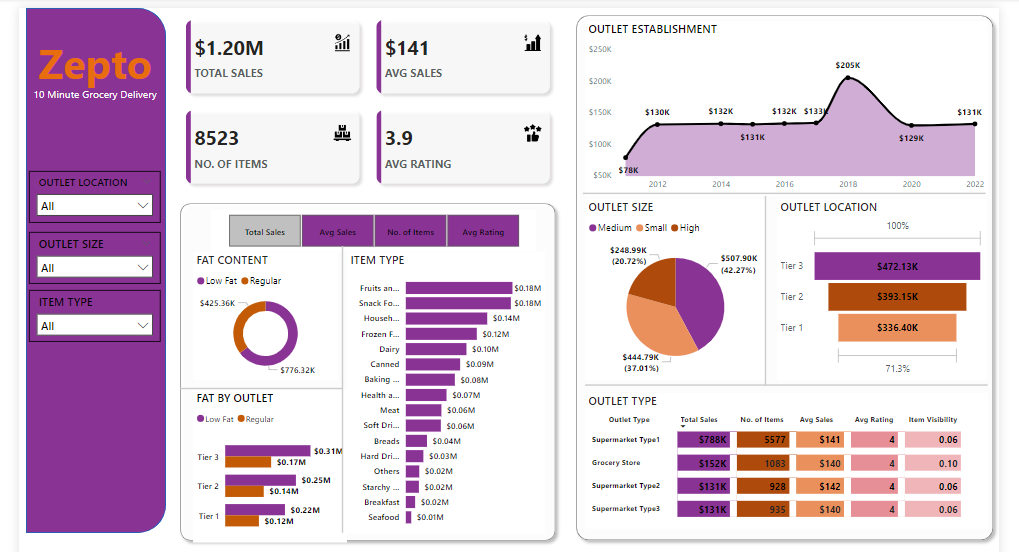

The dashboard page shown, as its layout file describes it:
{"tool":"powerbi","page":{"name":"Page 1","canvas":[1400,800],"ordinal":0},"visuals":[{"type":"shape","box":[10,0,200,750],"z":0},{"type":"textbox","box":[9.2,33.1,200.3,91.9],"z":1000},{"type":"textbox","box":[9.2,106.6,200.3,34.9],"z":2000},{"type":"cardVisual","fields":{"Data":["BlinkIT Grocery Data.Total Sales","BlinkIT Grocery Data.Avg Sales","BlinkIT Grocery Data.No. of Items","BlinkIT Grocery Data.Avg Rating"]},"box":[221.7,0,554.2,269.9],"z":3000},{"type":"shape","box":[221.7,269.9,554,500],"z":4000},{"type":"slicer","fields":{"Values":["Matrices.Matrices"]},"box":[274.7,289.2,464.3,59.4],"z":5000},{"type":"donutChart","title":"FAT CONTENT","fields":{"Y":["BlinkIT Grocery Data.Total Sales"],"Category":["BlinkIT Grocery Data.Item Fat Content"]},"box":[249,348.6,207.2,183.1],"z":6000},{"type":"clusteredBarChart","title":"FAT BY OUTLET","fields":{"Y":["BlinkIT Grocery Data.Total Sales"],"Category":["BlinkIT Grocery Data.Outlet Location Type"],"Series":["BlinkIT Grocery Data.Item Fat Content"]},"box":[249,546.2,220.1,218.5],"z":8000},{"type":"barChart","title":"ITEM TYPE","fields":{"Y":["BlinkIT Grocery Data.Total Sales"],"Category":["BlinkIT Grocery Data.Item Type"]},"box":[469.1,348.6,282.7,401.6],"z":9000},{"type":"shape","box":[787.1,1.6,613.7,767.9],"z":10000},{"type":"lineChart","title":"OUTLET ESTABLISHMENT","fields":{"Category":["BlinkIT Grocery Data.Outlet Establishment Year"],"Y":["BlinkIT Grocery Data.Total Sales"]},"box":[808,19.3,575.1,250.6],"z":11000},{"type":"pieChart","title":"OUTLET SIZE","fields":{"Category":["BlinkIT Grocery Data.Outlet Size"],"Y":["BlinkIT Grocery Data.Total Sales"]},"box":[808,273.1,258.6,258.6],"z":12000},{"type":"funnel","title":"OUTLET LOCATION","fields":{"Category":["BlinkIT Grocery Data.Outlet Location Type"],"Y":["BlinkIT Grocery Data.Total Sales"]},"box":[1082.7,273.1,300.4,258.6],"z":13000},{"type":"pivotTable","title":"OUTLET TYPE","fields":{"Rows":["BlinkIT Grocery Data.Outlet Type"],"Values":["BlinkIT Grocery Data.Total Sales","BlinkIT Grocery Data.No. of Items","BlinkIT Grocery Data.Avg Sales","BlinkIT Grocery Data.Avg Rating","Avg(BlinkIT Grocery Data.Item Visibility)"]},"box":[808,549.4,575.1,194.4],"z":14000},{"type":"shape","box":[229.7,536.5,232.9,12.9],"z":15000},{"type":"shape","box":[456.2,340.6,12.9,409.6],"z":16000},{"type":"shape","box":[1060.2,268.3,12.9,271.5],"z":17000},{"type":"shape","box":[808,531.7,575.1,14.5],"z":18000},{"type":"shape","box":[806.4,260.2,575.1,9.6],"z":19000},{"type":"slicer","fields":{"Values":["BlinkIT Grocery Data.Outlet Location Type"]},"box":[14.5,232.9,188,73.9],"z":20000},{"type":"slicer","fields":{"Values":["BlinkIT Grocery Data.Outlet Size"]},"box":[14.5,319.7,188,73.9],"z":21000},{"type":"slicer","fields":{"Values":["BlinkIT Grocery Data.Item Type"]},"box":[14.5,403.2,188,73.9],"z":22000}]}

Visuals, with their boxes on the page's 1400x800 design canvas (x1, y1, x2, y2). These are canvas units, not pixel positions in the 1019x552 screenshot, which may show the page scaled, cropped or inside an application window:
shape: rect(10, 0, 210, 750)
textbox: rect(9, 33, 210, 125)
textbox: rect(9, 107, 210, 142)
cardVisual - BlinkIT Grocery Data.Total Sales x BlinkIT Grocery Data.Avg Sales: rect(222, 0, 776, 270)
shape: rect(222, 270, 776, 770)
slicer - Matrices.Matrices: rect(275, 289, 739, 349)
"FAT CONTENT" donutChart: rect(249, 349, 456, 532)
"FAT BY OUTLET" clusteredBarChart: rect(249, 546, 469, 765)
"ITEM TYPE" barChart: rect(469, 349, 752, 750)
shape: rect(787, 2, 1401, 770)
"OUTLET ESTABLISHMENT" lineChart: rect(808, 19, 1383, 270)
"OUTLET SIZE" pieChart: rect(808, 273, 1067, 532)
"OUTLET LOCATION" funnel: rect(1083, 273, 1383, 532)
"OUTLET TYPE" pivotTable: rect(808, 549, 1383, 744)
shape: rect(230, 536, 463, 549)
shape: rect(456, 341, 469, 750)
shape: rect(1060, 268, 1073, 540)
shape: rect(808, 532, 1383, 546)
shape: rect(806, 260, 1382, 270)
slicer - BlinkIT Grocery Data.Outlet Location Type: rect(14, 233, 202, 307)
slicer - BlinkIT Grocery Data.Outlet Size: rect(14, 320, 202, 394)
slicer - BlinkIT Grocery Data.Item Type: rect(14, 403, 202, 477)
